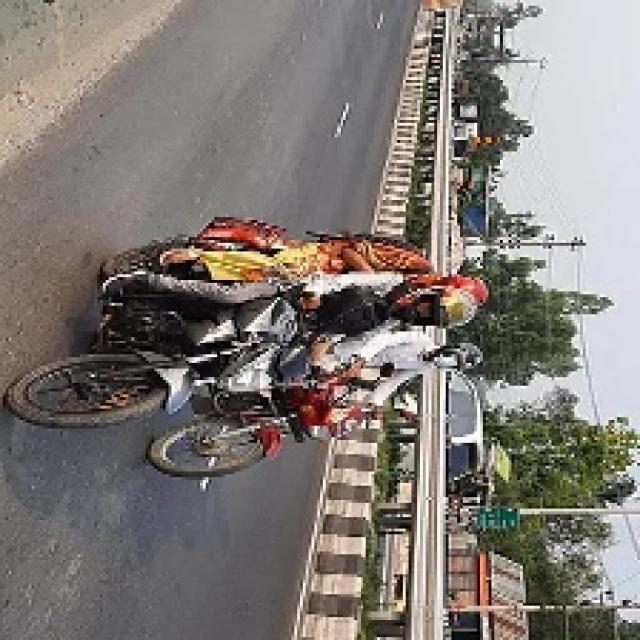rickshaw: (31, 224, 323, 433), (149, 354, 391, 487)
